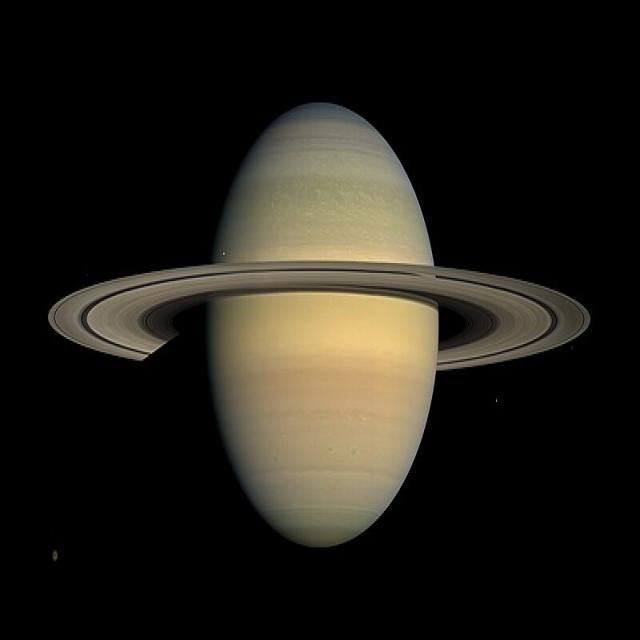Saturn: (47, 101, 593, 551)
